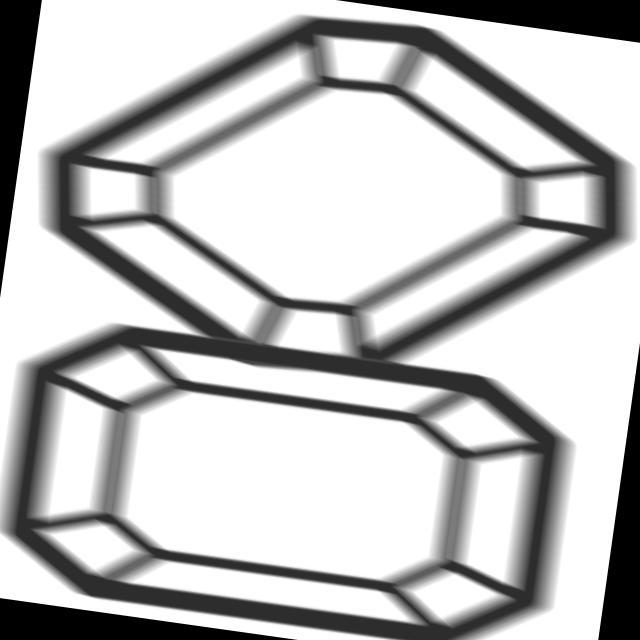emerald: (9, 1, 640, 420), (1, 295, 592, 640)
